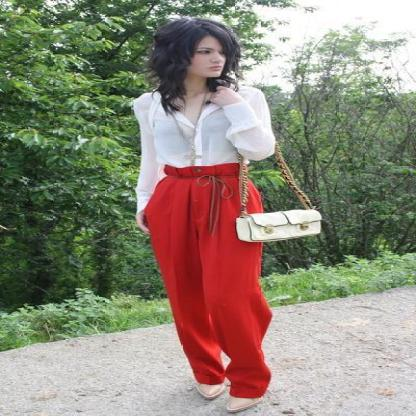bag: (236, 209, 325, 245)
pants: (142, 162, 272, 398)
shirt: (126, 79, 278, 214)
shoe: (203, 377, 259, 415)
